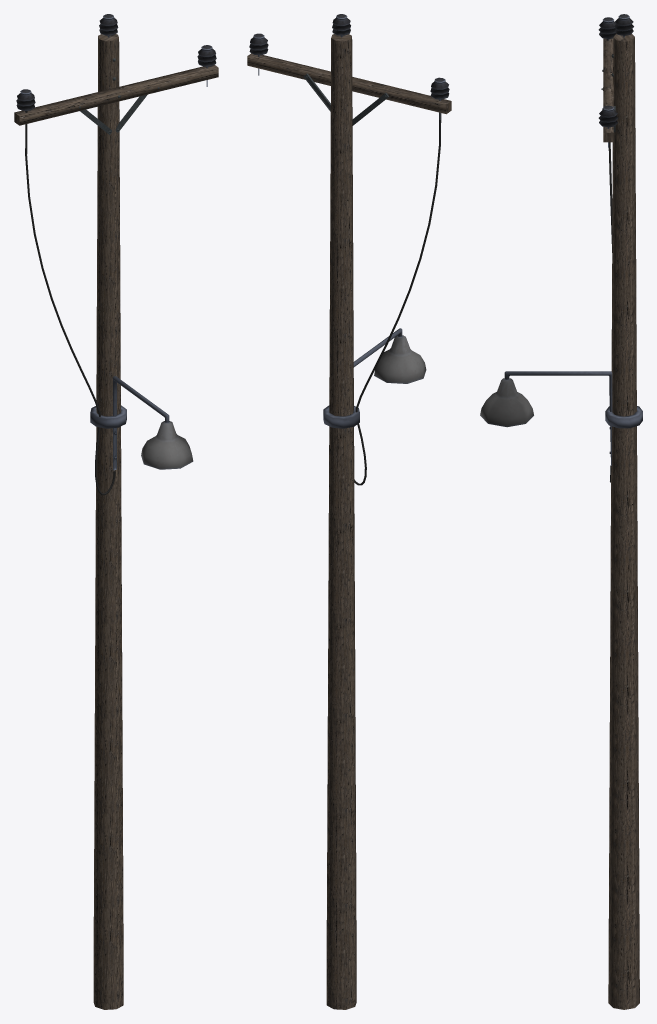
Rendered from pole_wood_b_lod_0.glb.
3 renders of one model, left to right at view 1: azimuth 30°, elevation 25°; view 2: azimuth 150°, elevation 25°; view 3: azimuth 270°, elevation 25°, orthographic.
Parts seen in each view (by area): view 1: pole_wood_b_lod_0; view 2: pole_wood_b_lod_0; view 3: pole_wood_b_lod_0.
Part boxes in pixels (<box>): pole_wood_b_lod_0: <box>14,14,218,1009</box>; pole_wood_b_lod_0: <box>247,14,451,1009</box>; pole_wood_b_lod_0: <box>480,14,642,1009</box>.
Size of the model in its own units: 2.2 by 10.42 by 1.56.
2 materials, 2 textured.
